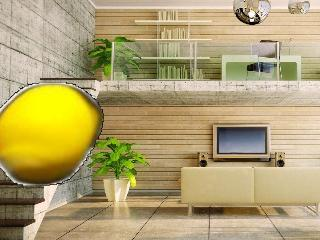lemon: (2, 85, 103, 184)
